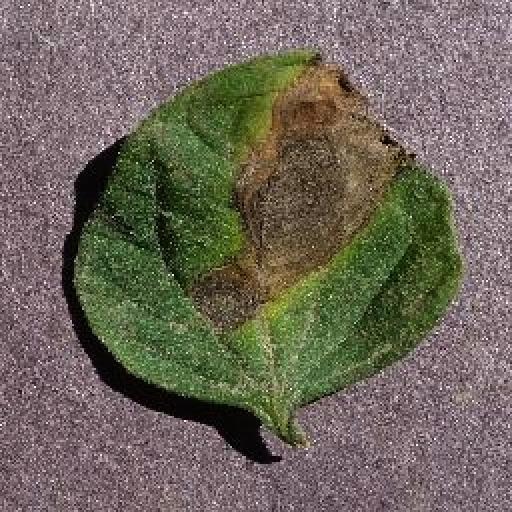disease_tomato: (66, 52, 466, 408)
